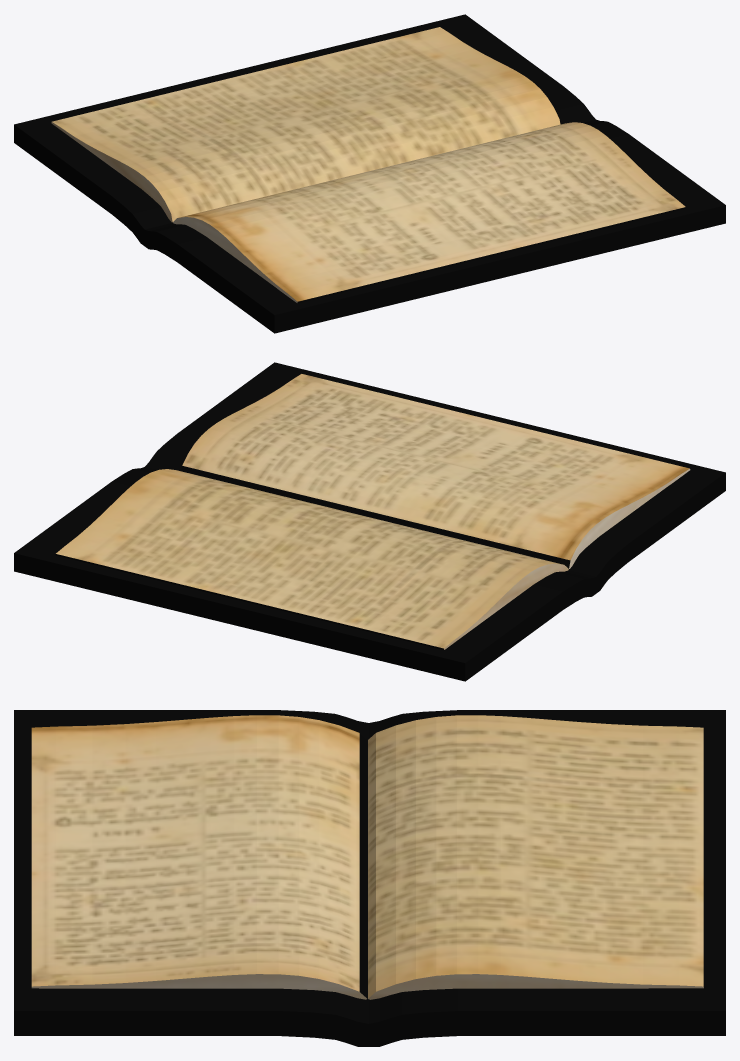
The model's file is broken_FlaskSquare.fbx_floor3.fbx_open_book.fbx.
3 views of the same model, one above another, from view 1: azimuth 30°, elevation 25°; view 2: azimuth 150°, elevation 25°; view 3: azimuth 270°, elevation 25° (orthographic). The views are drawn at different scales.
Parts seen in each view (by area): view 1: BezierCurve.001; view 2: BezierCurve.001; view 3: BezierCurve.001.
Boxes of the visible parts, x1=… form: BezierCurve.001: x1=14, y1=14, x2=725, y2=333; BezierCurve.001: x1=14, y1=362, x2=725, y2=681; BezierCurve.001: x1=14, y1=710, x2=725, y2=1046.
Bounding box in the file's own units: 32.23 × 2.61 × 32.23.
